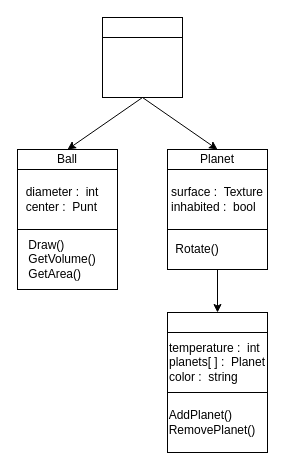
Image size: 295x470. Some labels were removed from this diagram. The shapes that lost their labels are listed below. From the top down, each one's centre as x and y in pixels, then its label:
At point (142, 27): "Point".
At point (142, 67): "x : int y : int z : int".
At point (217, 322): "Sun".
